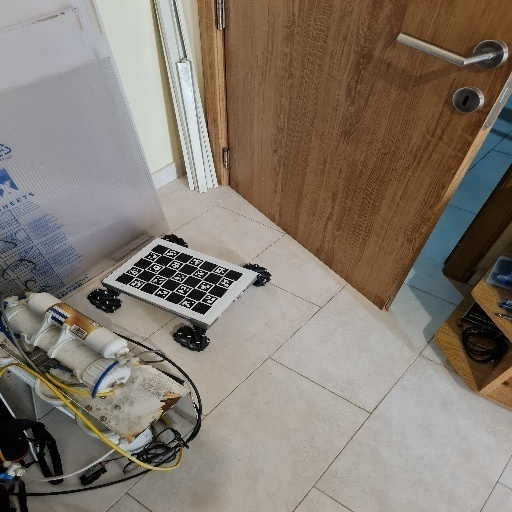Omniwheel: (87, 234, 274, 352)
